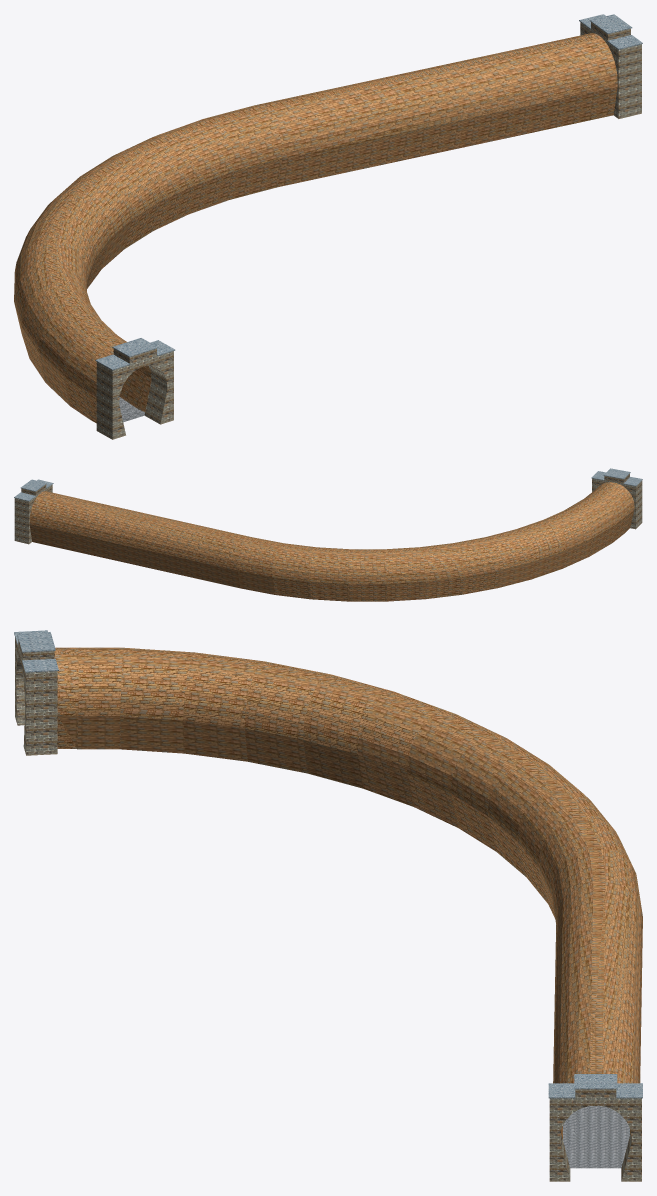
File: GMLID_BUI289877_1911_4122.dae
The picture shows the model from 3 angles, top to bottom: view 1: azimuth 30°, elevation 25°; view 2: azimuth 150°, elevation 25°; view 3: azimuth 270°, elevation 25°; orthographic projection. The views are drawn at different scales.
Bounding box in the file's own units: 122 × 73.66 × 15.38.
4 materials, 4 textured.
